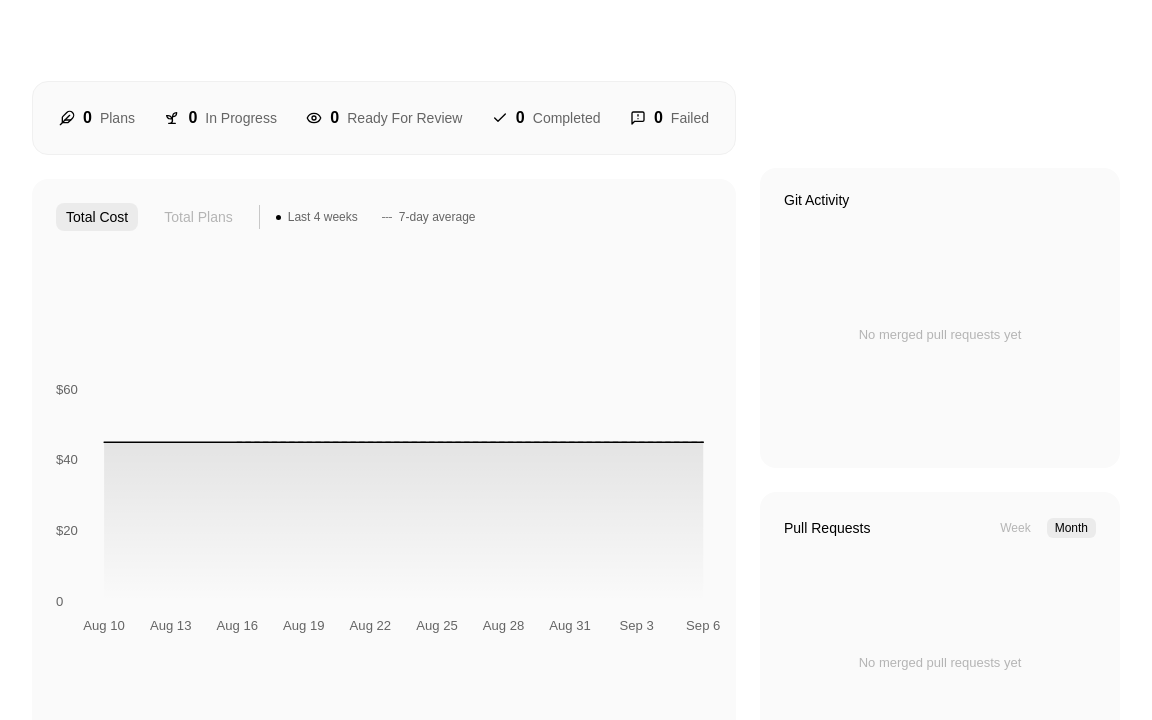
Test case: TendrilDashboard range and metric combinations › shows the 4 week plan series counted in plans
Click the button "Total Plans".
click(199, 217)  # box top-left (154, 203), bottom-right (243, 231)
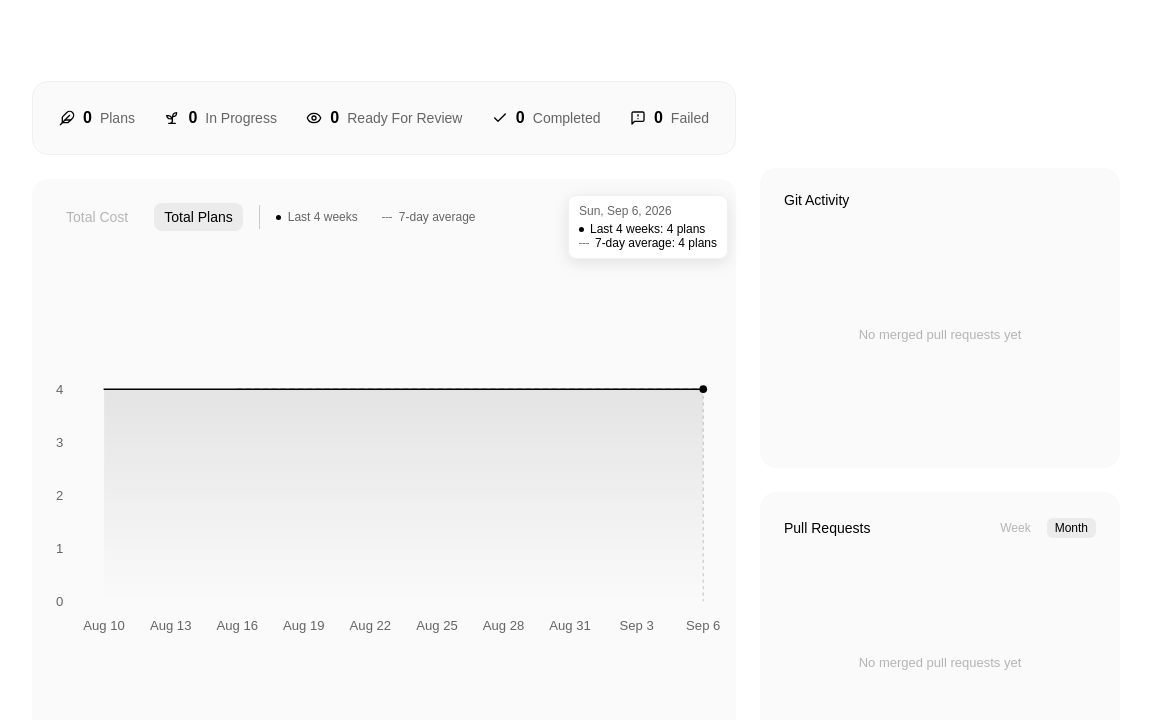
Expected: the text "Last 4 weeks: 4 plans" is shown, top-left (579, 222), bottom-right (717, 236)
Expected: the text "7-day average: 4 plans" is shown, top-left (579, 236), bottom-right (717, 250)
